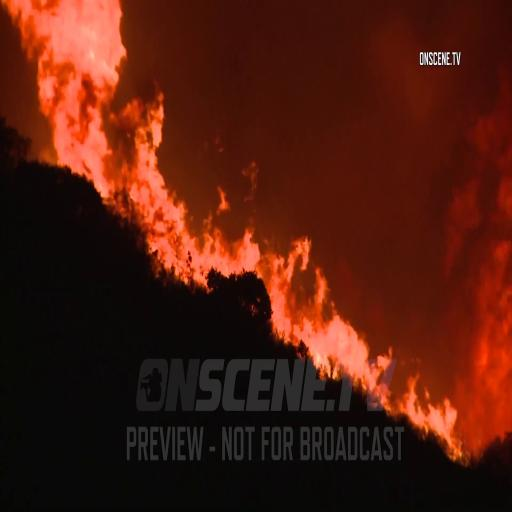fire: (110, 108, 261, 267), (10, 0, 121, 202), (271, 244, 374, 377), (374, 358, 460, 440)
